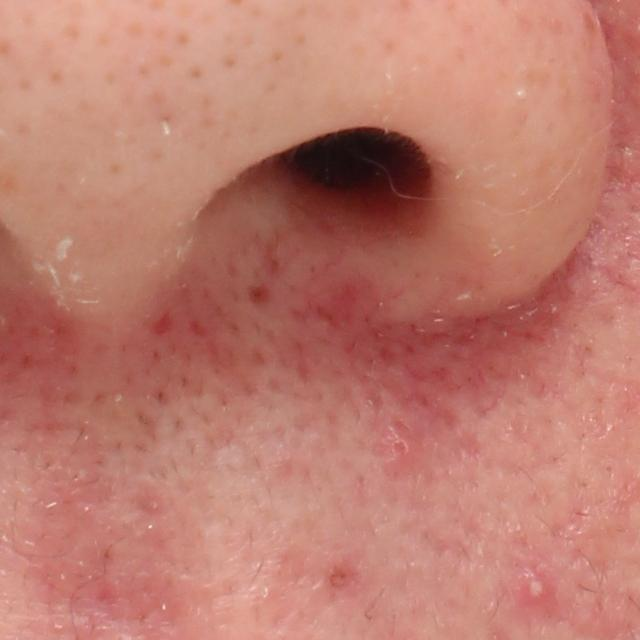pustule: (516, 567, 563, 607)
